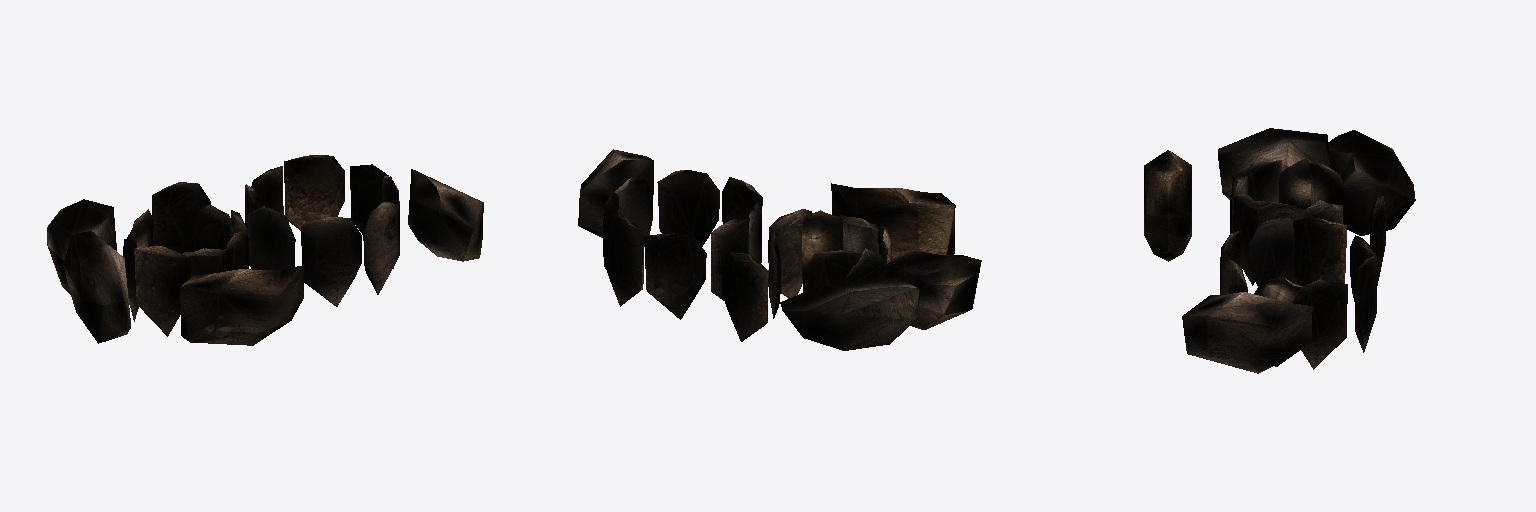
The picture shows the model from 3 angles: view 1: azimuth 30°, elevation 25°; view 2: azimuth 150°, elevation 25°; view 3: azimuth 270°, elevation 25°; orthographic projection.
Visible parts, largest first — view 1: rock002, rock001, rock, rock011, rock010, rock018, rock003, rock015, rock005, rock013, rock019, rock014 (+4 smaller); view 2: rock003, rock002, rock001, rock012, rock013, rock005, rock, rock010, rock007, rock016, rock008, rock017 (+6 smaller); view 3: rock, rock003, rock002, rock001, rock008, rock014, rock015, rock010, rock018, rock017, rock006, rock007 (+7 smaller).
Boxes of the visible parts, <box> form: rock002: <box>180,265,303,345</box>; rock001: <box>63,231,130,343</box>; rock: <box>408,169,483,261</box>; rock011: <box>301,217,361,306</box>; rock010: <box>284,155,344,230</box>; rock018: <box>134,246,190,336</box>; rock003: <box>47,199,116,294</box>; rock015: <box>247,206,295,269</box>; rock005: <box>152,182,210,253</box>; rock013: <box>363,202,399,294</box>; rock019: <box>183,205,230,251</box>; rock014: <box>350,164,388,234</box>; rock003: <box>780,278,920,350</box>; rock002: <box>831,183,955,259</box>; rock001: <box>880,250,981,329</box>; rock012: <box>644,233,706,319</box>; rock013: <box>657,170,719,246</box>; rock005: <box>722,252,768,341</box>; rock: <box>578,149,653,237</box>; rock010: <box>603,214,643,306</box>; rock007: <box>769,209,811,298</box>; rock016: <box>801,210,842,279</box>; rock008: <box>711,217,750,300</box>; rock017: <box>803,250,862,292</box>; rock: <box>1182,292,1312,373</box>; rock003: <box>1328,130,1415,235</box>; rock002: <box>1144,150,1191,261</box>; rock001: <box>1218,128,1330,199</box>; rock008: <box>1293,218,1346,285</box>; rock014: <box>1292,279,1347,369</box>; rock015: <box>1249,218,1298,286</box>; rock010: <box>1355,253,1376,352</box>; rock018: <box>1231,160,1281,202</box>; rock017: <box>1310,163,1347,226</box>; rock006: <box>1279,158,1310,209</box>; rock007: <box>1243,201,1303,255</box>.
Bounding box in the file's own units: 59.17 × 13.55 × 36.18.
1 materials, 1 textured.